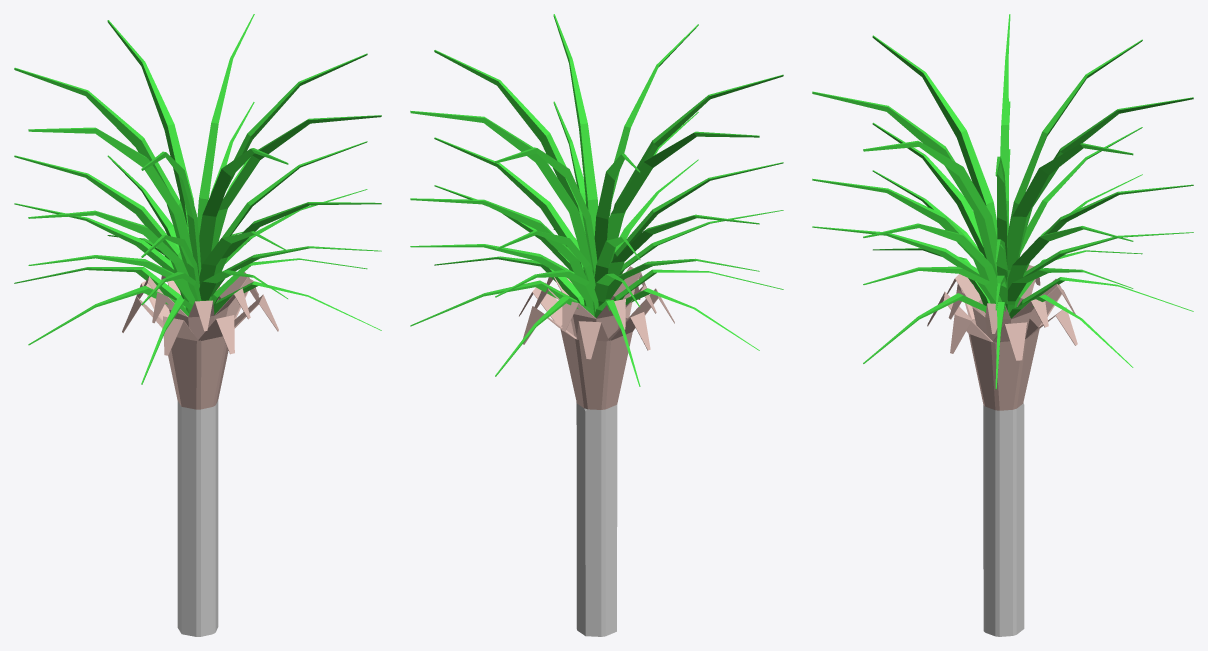
The model's file is IG-Tree 3.fbx.
3 renders of one model, left to right at view 1: azimuth 30°, elevation 25°; view 2: azimuth 150°, elevation 25°; view 3: azimuth 270°, elevation 25°, orthographic.
Parts seen in each view (by area): view 1: IG_Tree 3; view 2: IG_Tree 3; view 3: IG_Tree 3.
Part boxes in pixels (bbox=[...]): IG_Tree 3: bbox=[14, 14, 381, 636]; IG_Tree 3: bbox=[410, 14, 783, 636]; IG_Tree 3: bbox=[812, 14, 1193, 636].
Bounding box in the file's own units: 825 × 1274 × 825.
